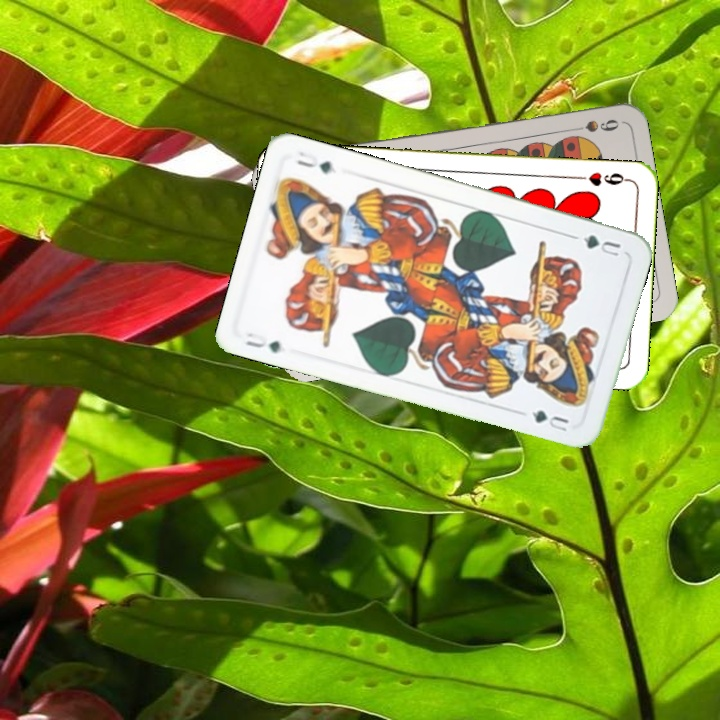GU: (579, 230, 623, 259), (240, 328, 284, 356)
H9: (573, 168, 632, 188)
S9: (562, 115, 622, 135)
